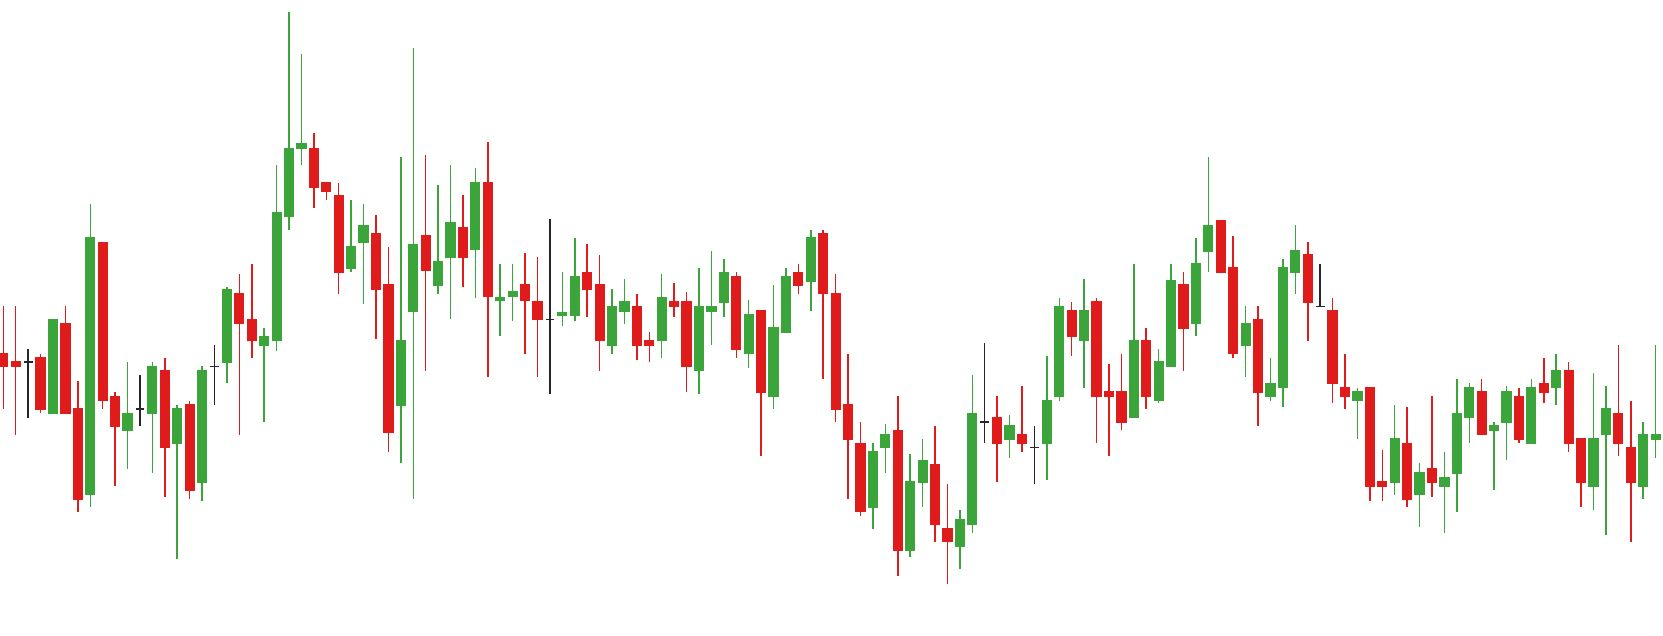buy: (70, 404, 182, 558)
